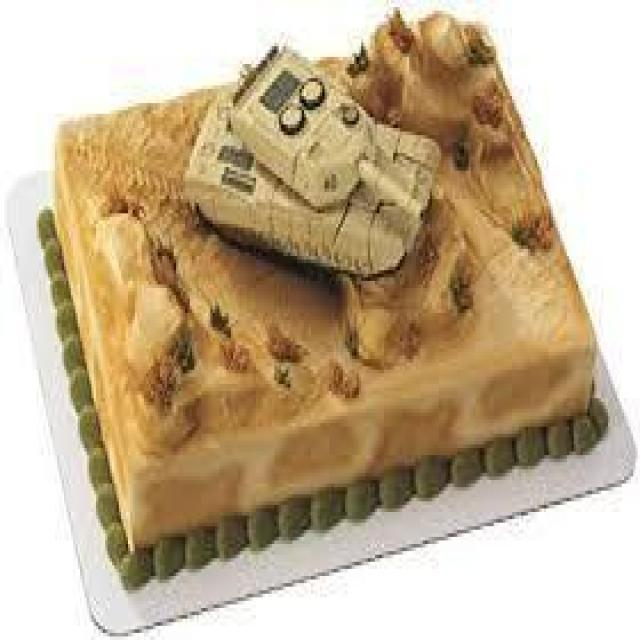MIL_MBT: (155, 30, 466, 347)
